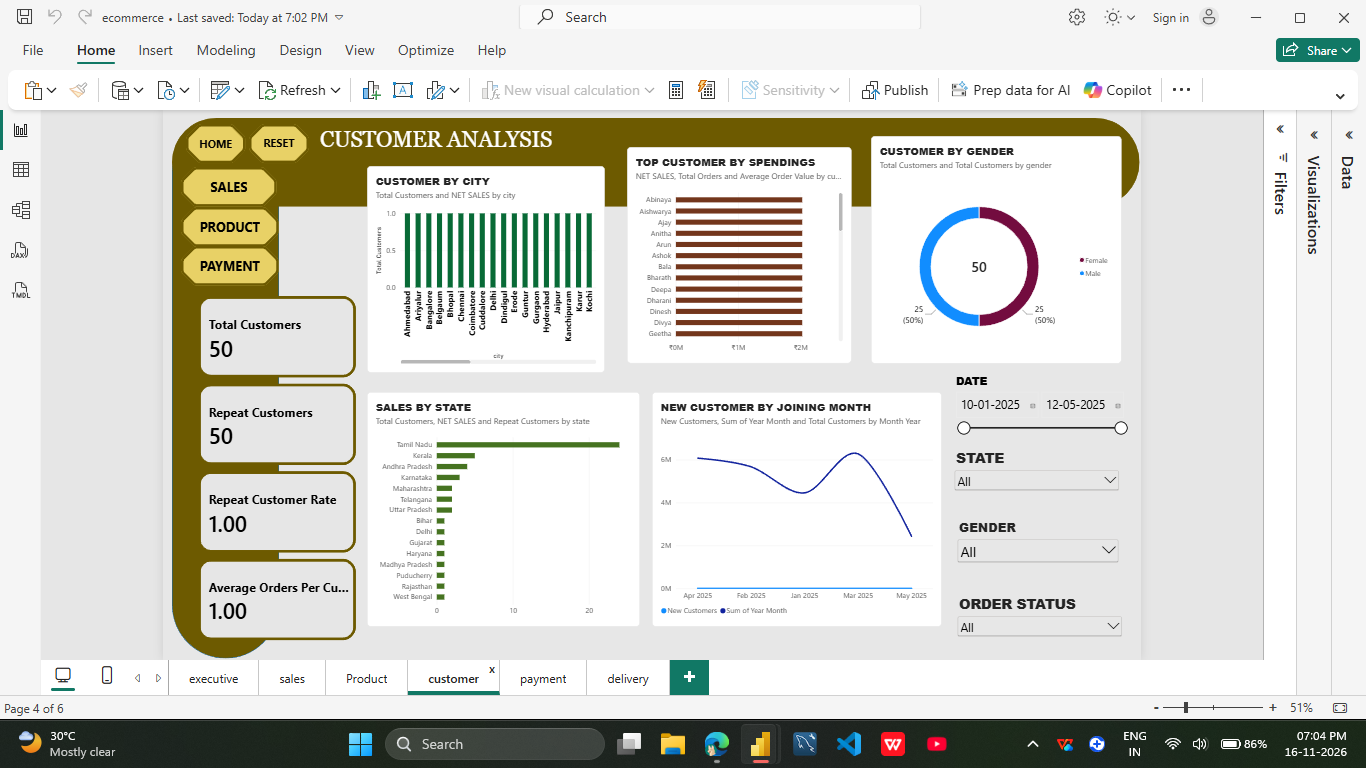

The page's visual inventory and layout, read from the dashboard file:
{"tool":"powerbi","page":{"name":"customer","canvas":[1920,1080],"ordinal":3},"visuals":[{"type":"group","id":"g1","title":"Group 1","box":[17.9,15.4,1900.2,1061.8],"z":0,"group":"g2"},{"type":"group","id":"g2","title":"Group 3","box":[17.9,15.4,1900.2,1063.7],"z":0},{"type":"shape","box":[17.9,15.9,210.2,1061.3],"z":0,"group":"g1"},{"type":"shape","box":[18.2,15.4,1899.9,174.1],"z":1000,"group":"g1"},{"type":"cardVisual","fields":{"Data":["ecom customer.Total Customers","ecom customer.Repeat Customers","ecom customer.Repeat Customer Rate","ecom customer.Average Orders Per Customer"]},"box":[68.9,364.9,310.8,714.1],"z":1000,"group":"g2"},{"type":"clusteredBarChart","title":"SALES BY STATE","fields":{"Category":["ecom customer.state"],"Y":["ecom customer.Total Customers"]},"box":[401.1,553.2,535.6,460.7],"z":1000},{"type":"donutChart","title":"CUSTOMER BY GENDER","fields":{"Category":["ecom customer.gender"],"Y":["ecom customer.Total Customers"]},"box":[1390.8,50.7,491.5,447.4],"z":2000},{"type":"actionButton","box":[35.7,189.8,192,78.1],"z":3000},{"type":"clusteredColumnChart","title":"CUSTOMER BY CITY","fields":{"Category":["ecom customer.city"],"Y":["ecom customer.Total Customers"]},"box":[401.1,110.2,467.3,405.6],"z":4000},{"type":"clusteredBarChart","title":"TOP CUSTOMER BY SPENDINGS","fields":{"Category":["ecom customer.cusname"],"Y":["ecom orderdetails.NET SALES"]},"box":[910.3,72.7,440.8,425.4],"z":5000},{"type":"lineChart","title":"NEW  CUSTOMER BY JOINING MONTH","fields":{"Category":["Customer Join Calendar.Month Year"],"Y":["Customer Join Calendar.New Customers","Sum(Customer Join Calendar.Year Month)"]},"box":[961,553.2,568.7,460.7],"z":6000},{"type":"textbox","box":[308,34,1042,76],"z":7000},{"type":"slicer","title":"DATE","fields":{"Values":["Customer Join Calendar.Date"]},"box":[1549.5,515.8,348.2,147.7],"z":8000},{"type":"slicer","title":"STATE","fields":{"Values":["ecom customer.state"]},"box":[1549.5,663.4,332.8,121.2],"z":9000},{"type":"slicer","title":"GENDER","fields":{"Values":["ecom customer.gender"]},"box":[1556.1,802.3,326.2,110.2],"z":10000},{"type":"slicer","title":"ORDER STATUS","fields":{"Values":["ecom orderss.ordstatus"]},"box":[1556,951,333.2,125.6],"z":11000},{"type":"actionButton","box":[46.1,28.2,116.8,77.1],"z":12000},{"type":"actionButton","box":[169.2,28.2,117.9,76.9],"z":13000},{"type":"actionButton","box":[35.7,111.6,188,78],"z":14000},{"type":"actionButton","box":[35.7,267.9,192,78.1],"z":14001}]}

Visuals, with their boxes on the page's 1920x1080 design canvas (x1, y1, x2, y2). These are canvas units, not pixel positions in the 1366x768 screenshot, which may show the page scaled, cropped or inside an application window:
"Group 1" group: <box>18,15,1918,1077</box>
"Group 3" group: <box>18,15,1918,1079</box>
shape: <box>18,16,228,1077</box>
shape: <box>18,15,1918,190</box>
cardVisual - ecom customer.Total Customers x ecom customer.Repeat Customers: <box>69,365,380,1079</box>
"SALES BY STATE" clusteredBarChart: <box>401,553,937,1014</box>
"CUSTOMER BY GENDER" donutChart: <box>1391,51,1882,498</box>
actionButton: <box>36,190,228,268</box>
"CUSTOMER BY CITY" clusteredColumnChart: <box>401,110,868,516</box>
"TOP CUSTOMER BY SPENDINGS" clusteredBarChart: <box>910,73,1351,498</box>
"NEW  CUSTOMER BY JOINING MONTH" lineChart: <box>961,553,1530,1014</box>
textbox: <box>308,34,1350,110</box>
"DATE" slicer: <box>1550,516,1898,664</box>
"STATE" slicer: <box>1550,663,1882,785</box>
"GENDER" slicer: <box>1556,802,1882,912</box>
"ORDER STATUS" slicer: <box>1556,951,1889,1077</box>
actionButton: <box>46,28,163,105</box>
actionButton: <box>169,28,287,105</box>
actionButton: <box>36,112,224,190</box>
actionButton: <box>36,268,228,346</box>
